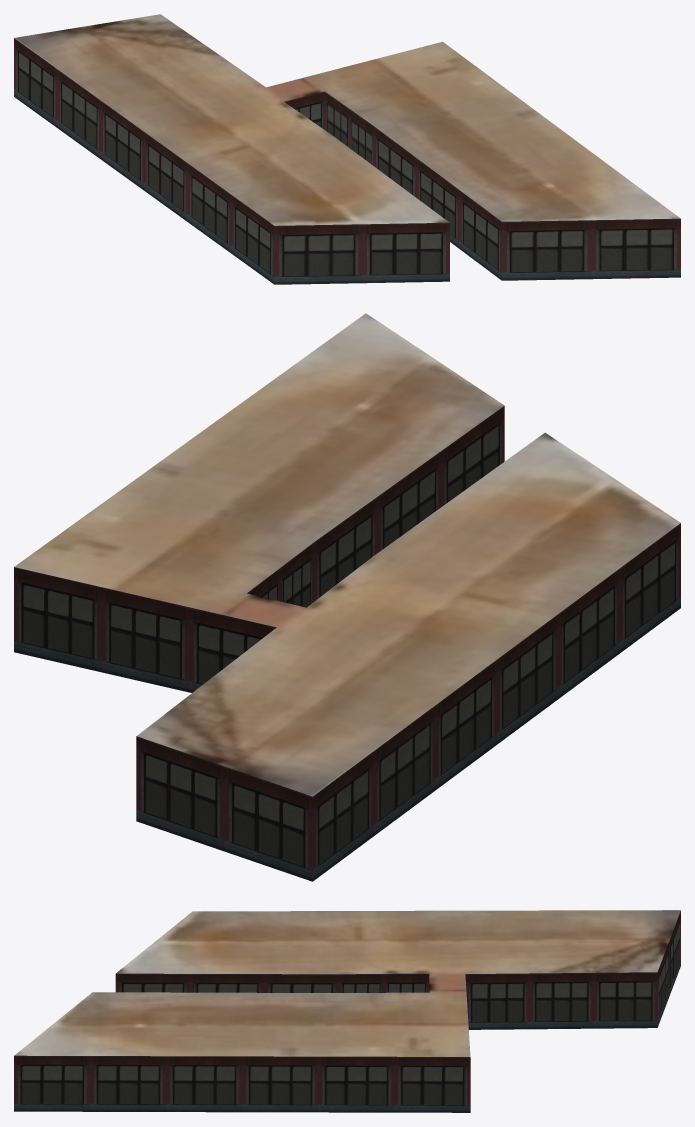
The model's file is T_1SW384NVG9.dae.
3 renders of one model, top to bottom at view 1: azimuth 30°, elevation 25°; view 2: azimuth 150°, elevation 25°; view 3: azimuth 270°, elevation 25°, orthographic. The views are drawn at different scales.
Parts seen in each view (by area): view 1: SketchUp (×7); view 2: SketchUp (×6); view 3: SketchUp (×6).
Part boxes in pixels (box(x1,y1,x2,y2)): SketchUp (×7): box(14, 14, 680, 284); SketchUp (×6): box(14, 313, 680, 881); SketchUp (×6): box(14, 910, 680, 1112).
Bounding box in the file's own units: 23.75 × 45.57 × 4.21.
Materials: 2 (2 with a texture image).
